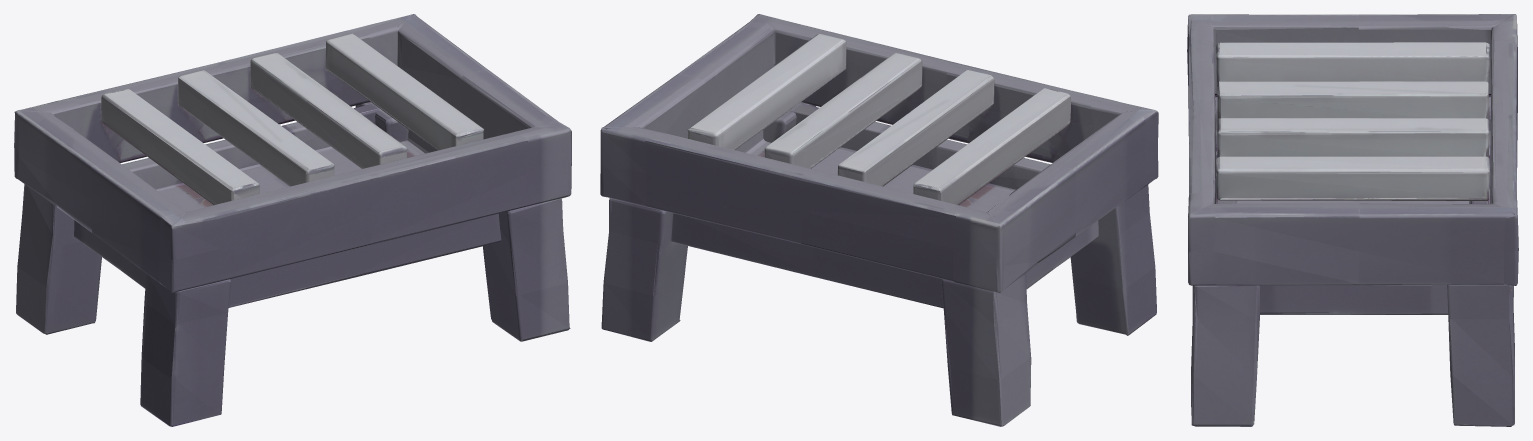
Rendered from improvedGrill.glb.
3 views of the same model, side by side, from view 1: azimuth 30°, elevation 25°; view 2: azimuth 150°, elevation 25°; view 3: azimuth 270°, elevation 25° (orthographic). The views are drawn at different scales.
Bounding box in the file's own units: 1 × 0.5059 × 0.6895.
1 material, 1 textured.
